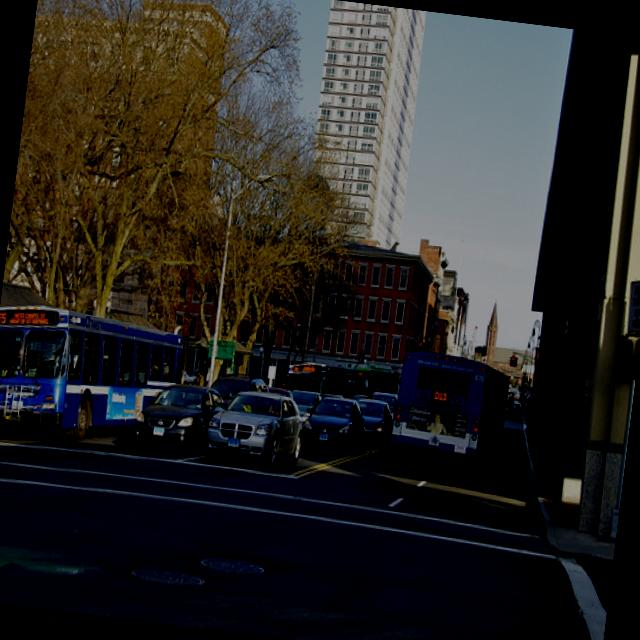Vehicle: (0, 300, 186, 453), (384, 351, 513, 478), (202, 386, 306, 472), (131, 378, 226, 458), (300, 394, 368, 456), (282, 358, 369, 400), (352, 399, 395, 453), (208, 373, 258, 413), (288, 389, 322, 426), (369, 390, 398, 418), (266, 386, 296, 402)
